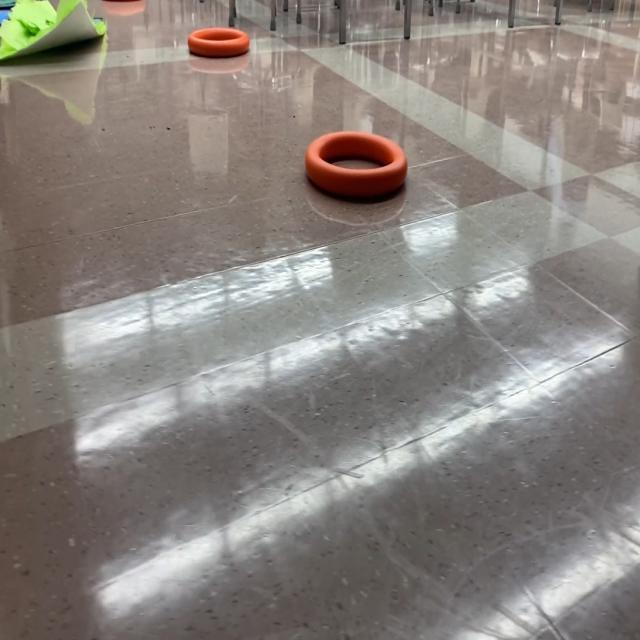note: (302, 126, 408, 203), (188, 24, 250, 60)
